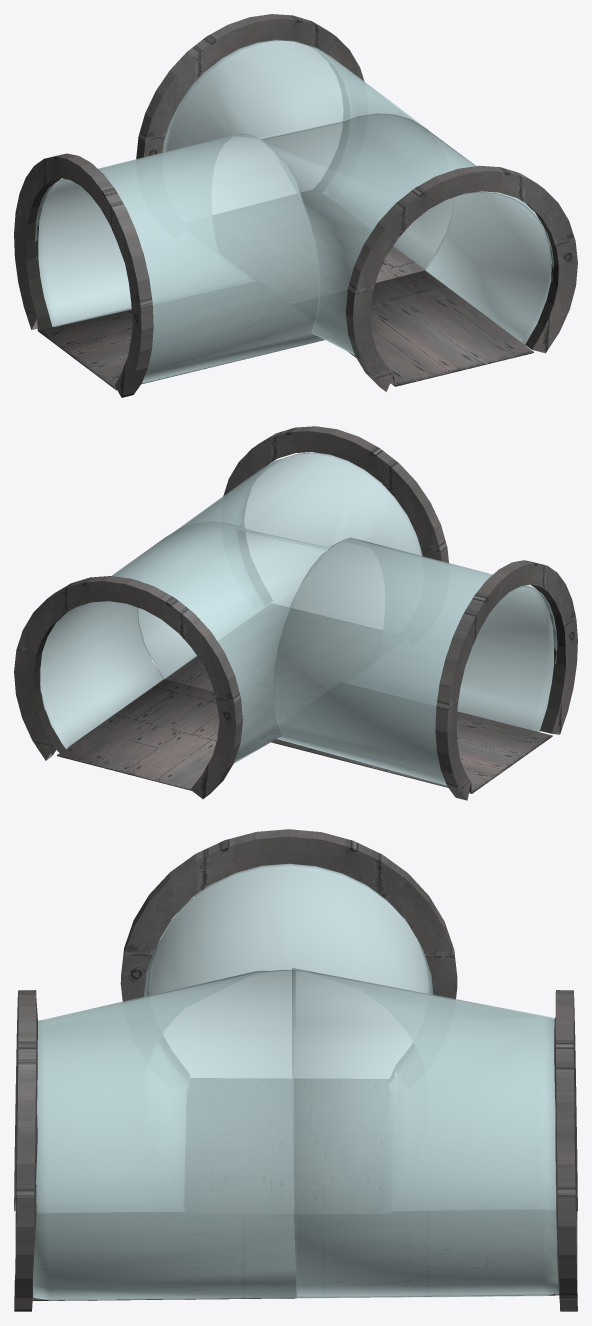
File: CanoBifurcacao.fbx
The picture shows the model from 3 angles, top to bottom: view 1: azimuth 30°, elevation 25°; view 2: azimuth 150°, elevation 25°; view 3: azimuth 270°, elevation 25°; orthographic projection. The views are drawn at different scales.
Parts seen in each view (by area): view 1: Cylinder.004, Cylinder.003, Cylinder, Cylinder.006, Cylinder.007, Cylinder.002, Cylinder.008, Cylinder.005, Cylinder.001; view 2: Cylinder.004, Cylinder, Cylinder.003, Cylinder.006, Cylinder.001, Cylinder.008, Cylinder.007, Cylinder.005, Cylinder.002; view 3: Cylinder, Cylinder.003, Cylinder.006, Cylinder.004, Cylinder.007, Cylinder.008, Cylinder.005, Cylinder.002, Cylinder.001.
Part boxes in pixels (box(x1,y1,x2,y2)): Cylinder.004: box(35, 133, 324, 383); Cylinder.003: box(261, 113, 553, 355); Cylinder: box(162, 39, 453, 269); Cylinder.006: box(37, 278, 332, 390); Cylinder.007: box(292, 270, 533, 386); Cylinder.002: box(346, 165, 577, 391); Cylinder.008: box(213, 190, 424, 303); Cylinder.005: box(14, 153, 153, 397); Cylinder.001: box(136, 14, 364, 193); Cylinder.004: box(273, 537, 557, 785); Cylinder: box(39, 521, 330, 763); Cylinder.003: box(138, 452, 422, 679); Cylinder.006: box(261, 682, 552, 793); Cylinder.001: box(14, 576, 242, 798); Cylinder.008: box(57, 679, 294, 791); Cylinder.007: box(165, 604, 382, 712); Cylinder.005: box(435, 560, 577, 800); Cylinder.002: box(223, 426, 448, 604); Cylinder: box(292, 968, 558, 1298); Cylinder.003: box(33, 970, 296, 1300); Cylinder.006: box(184, 1078, 390, 1213); Cylinder.004: box(144, 863, 433, 996); Cylinder.007: box(15, 1212, 296, 1300); Cylinder.008: box(296, 1209, 577, 1298); Cylinder.005: box(120, 829, 457, 1082); Cylinder.002: box(14, 990, 37, 1311); Cylinder.001: box(554, 990, 577, 1311).
Size of the model in its own units: 412 by 196 by 392.
3 materials, 1 textured.
